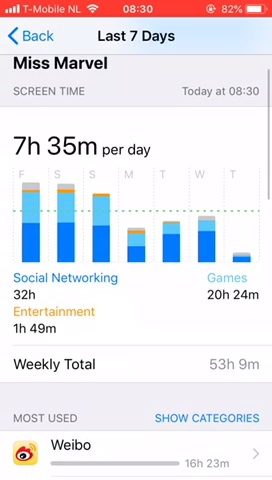use_over: (7, 271, 267, 377)
week: (88, 26, 188, 46)
